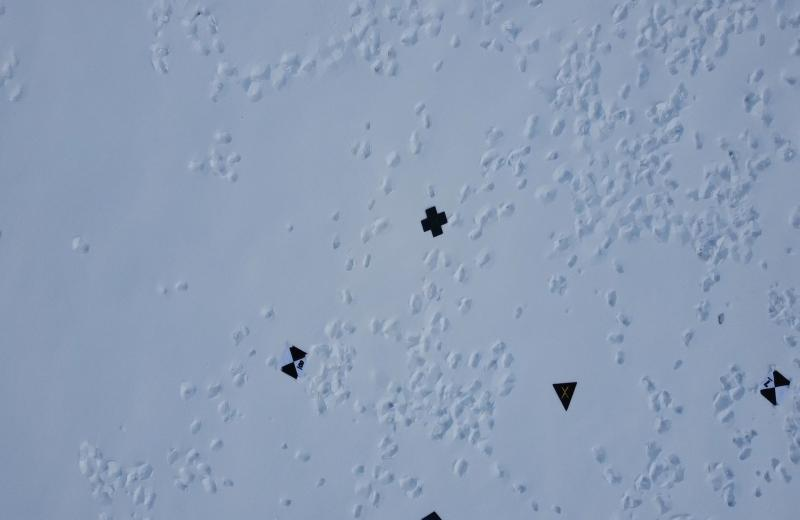Cross: (419, 205, 450, 241)
Triangle: (547, 378, 578, 413)
